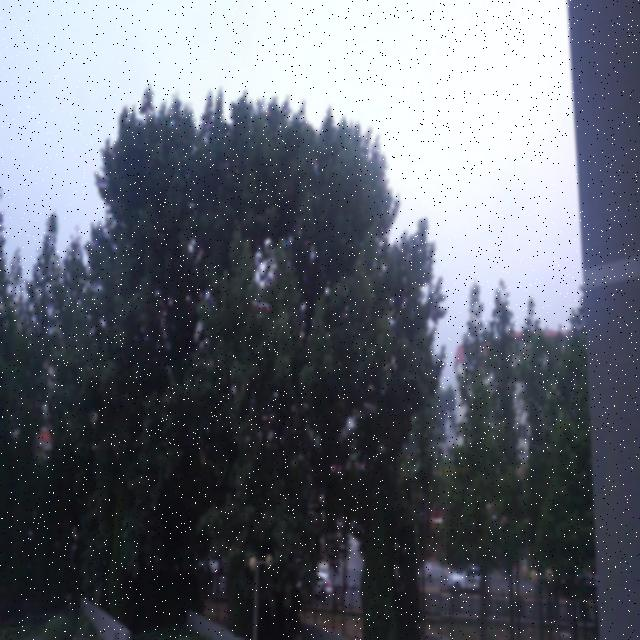UAV: (250, 300, 272, 318)
